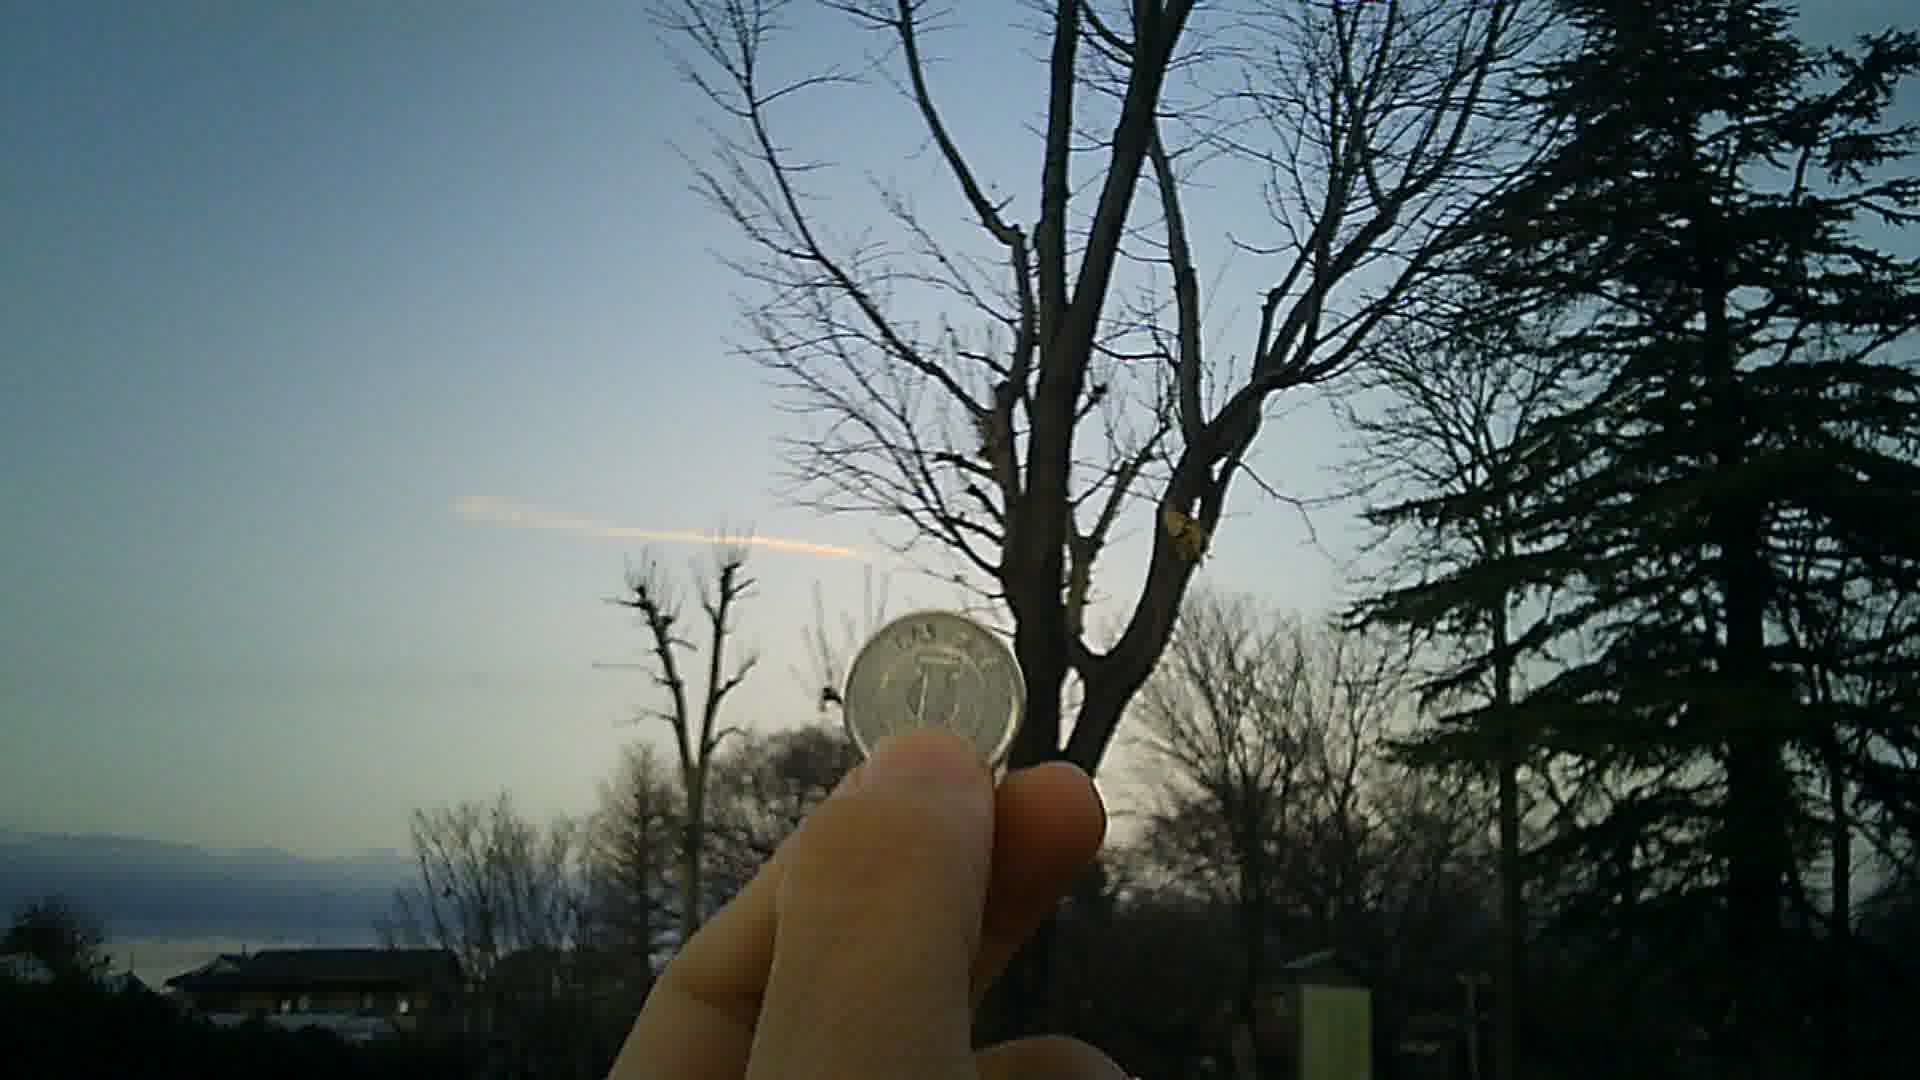1 Yen: (845, 607, 1031, 778)
